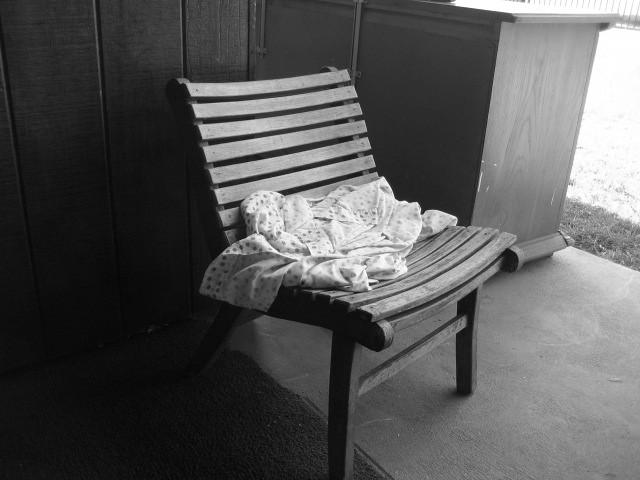chair: (165, 66, 522, 480)
